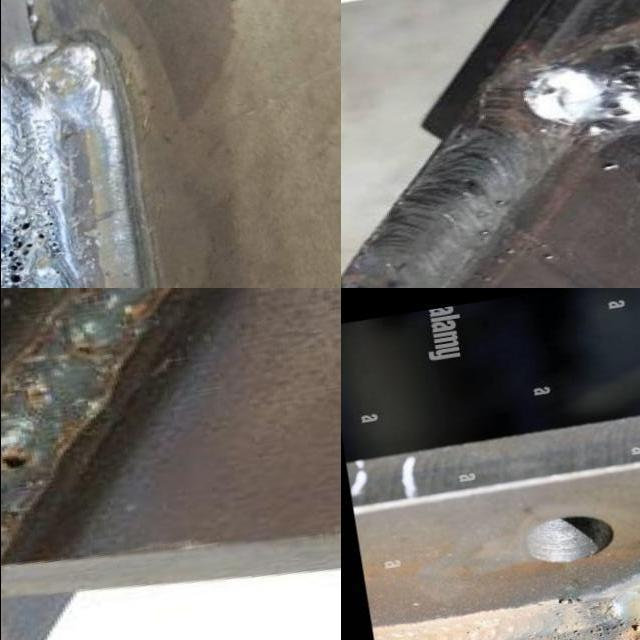defect: (0, 215, 51, 288), (594, 98, 636, 119), (0, 449, 32, 476), (605, 68, 640, 92), (588, 618, 624, 640), (626, 616, 640, 640), (556, 596, 572, 606), (552, 627, 564, 635), (572, 629, 582, 637)
